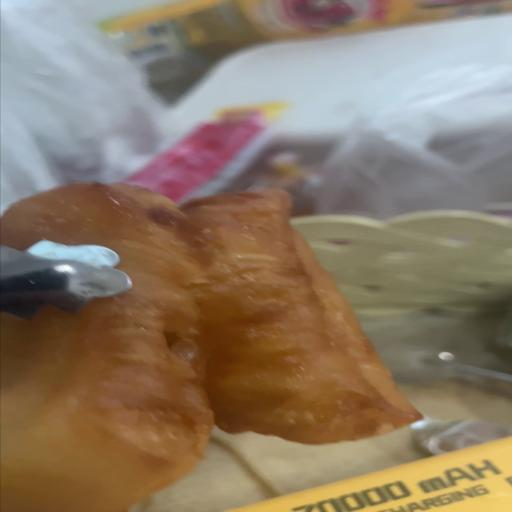street_burnt_good: (0, 183, 419, 512), (182, 191, 419, 444)
street_golden_defect: (0, 183, 420, 512)
